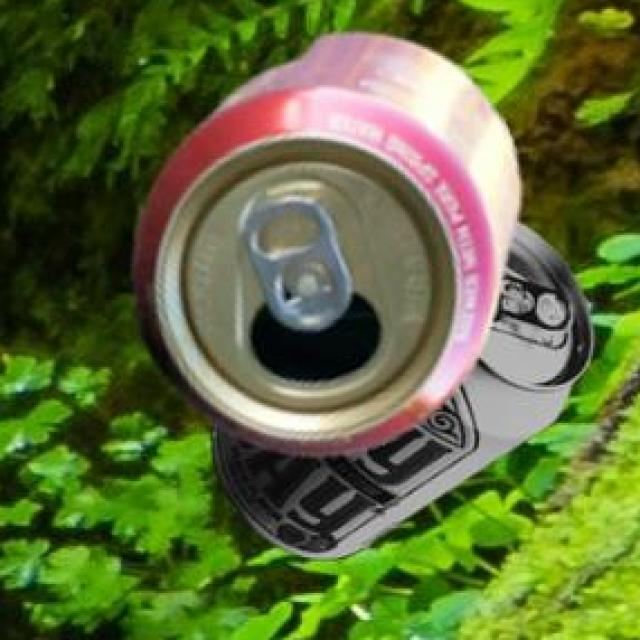logam: (131, 30, 516, 451), (209, 219, 590, 556)
